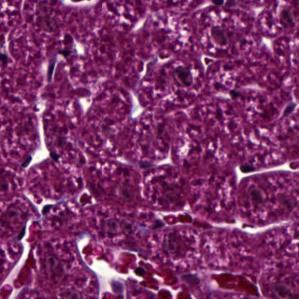inflammation: (169, 60, 198, 93), (204, 25, 231, 52), (153, 283, 179, 299)
